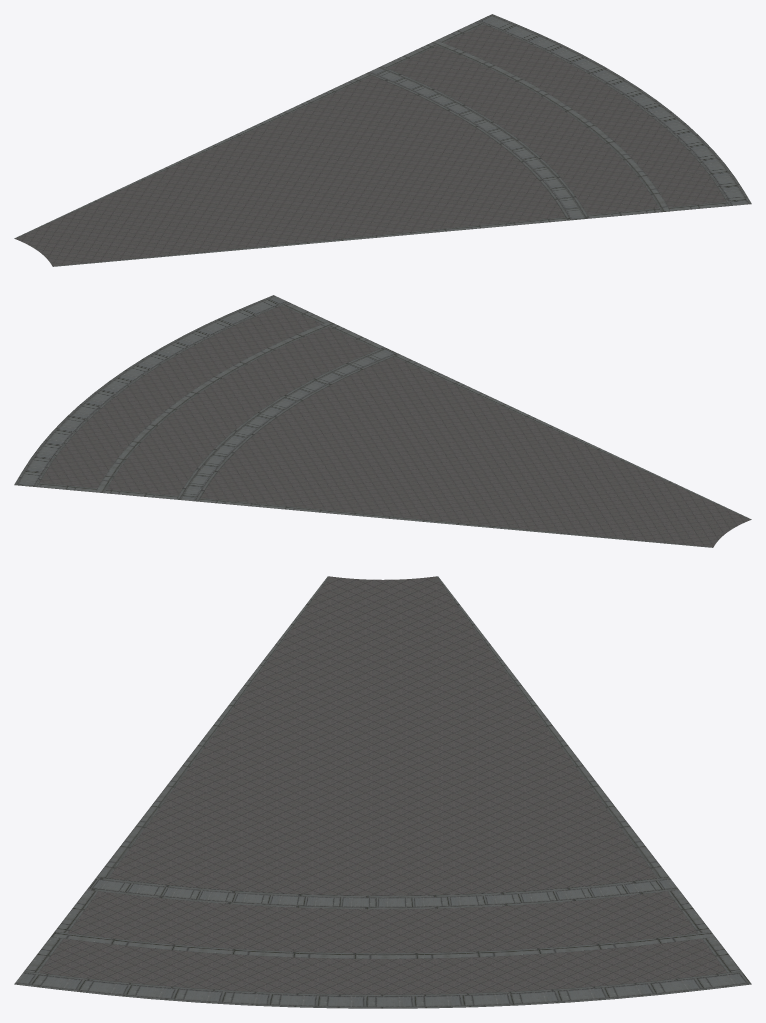
File: Club_RingOutFloor3x_02.FBX
3 renders of one model, top to bottom at view 1: azimuth 30°, elevation 25°; view 2: azimuth 150°, elevation 25°; view 3: azimuth 270°, elevation 25°, orthographic. The views are drawn at different scales.
Parts seen in each view (by area): view 1: Club_RingOutFloor3x_02; view 2: Club_RingOutFloor3x_02; view 3: Club_RingOutFloor3x_02.
Boxes of the visible parts, x1=… form: Club_RingOutFloor3x_02: x1=14, y1=14, x2=751, y2=266; Club_RingOutFloor3x_02: x1=14, y1=295, x2=751, y2=547; Club_RingOutFloor3x_02: x1=14, y1=576, x2=751, y2=1008.
Size of the model in its own units: 40.88 by 8.44e-15 by 29.48.
